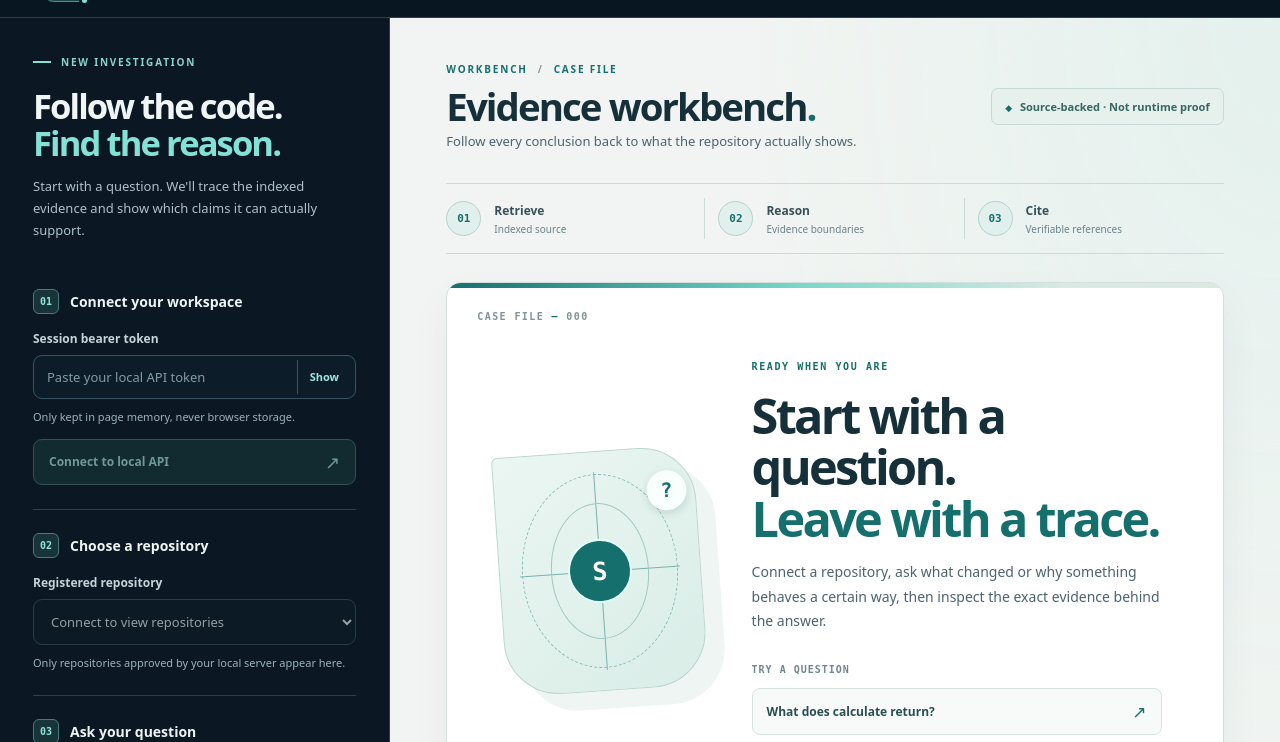
Scenario: local evidence workbench › shows hypotheses and missing observations
Type "test-local-token" into the password field labelled "Session bearer token" at (194, 377), box [33,355,356,399]
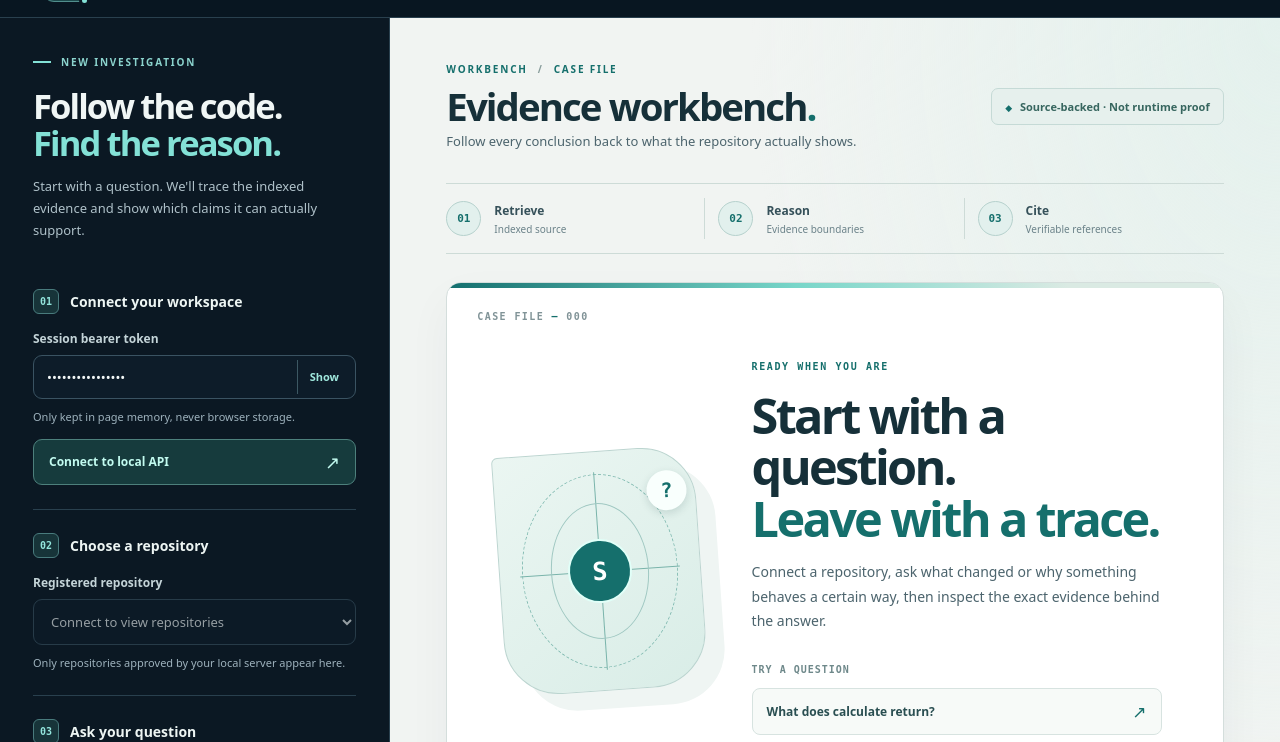
Click the button "Connect to local API" at (109, 462), box [33,439,356,485]
(page scrolled)
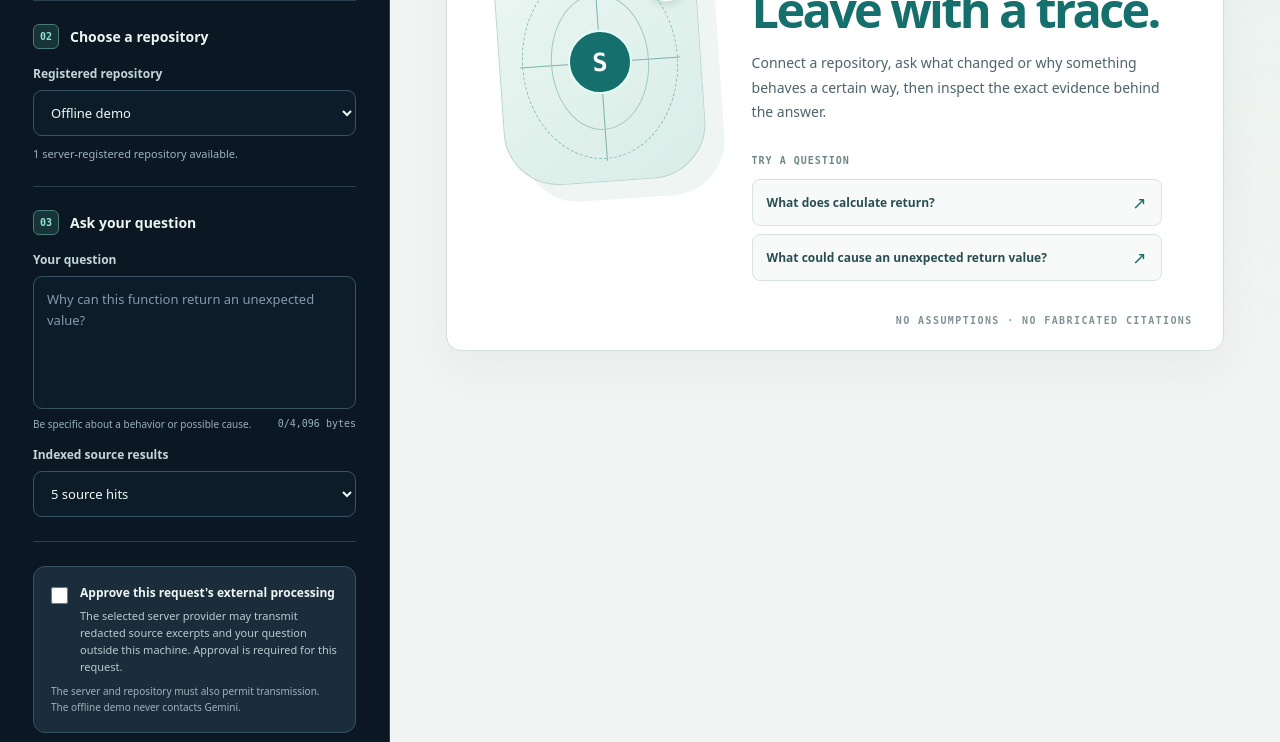
Type "What does the code return?" into the text box labelled "Your question" at (194, 343), box [33,276,356,409]
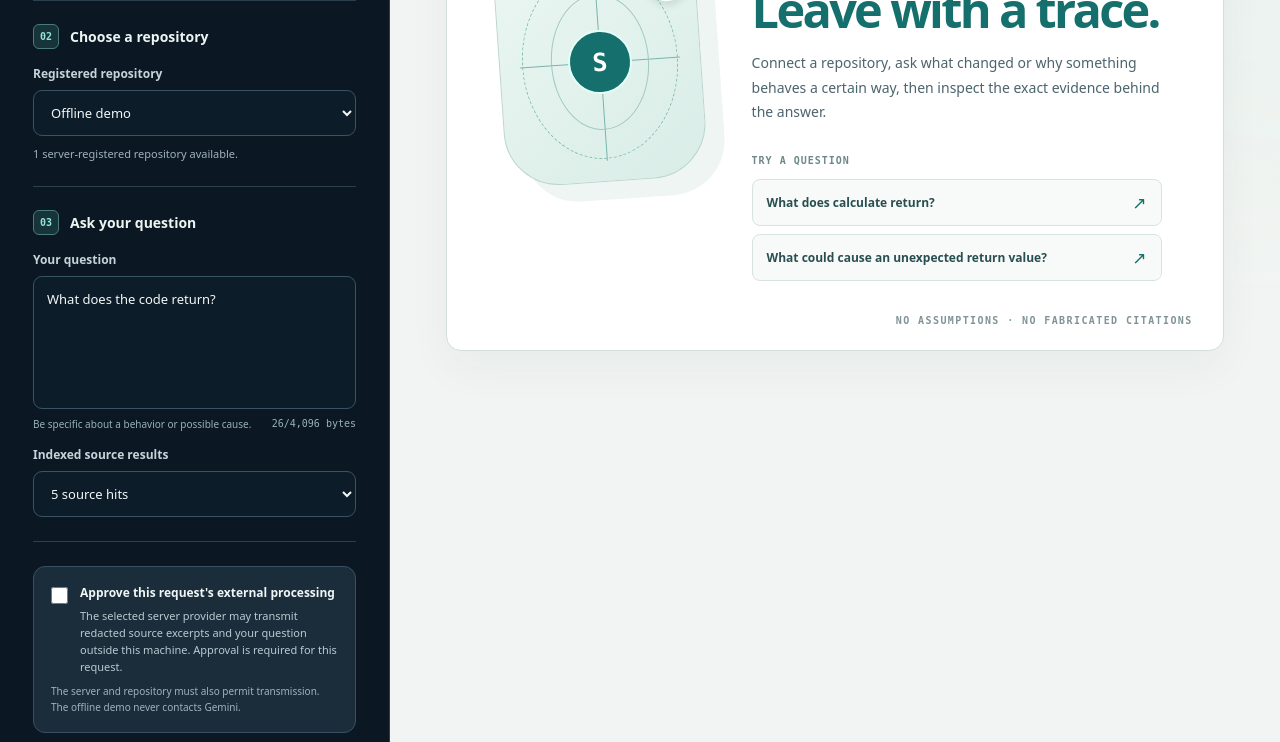
Click the checkbox named "Approve this request.s external processing" at (60, 595), box [51,587,68,604]
(page scrolled)
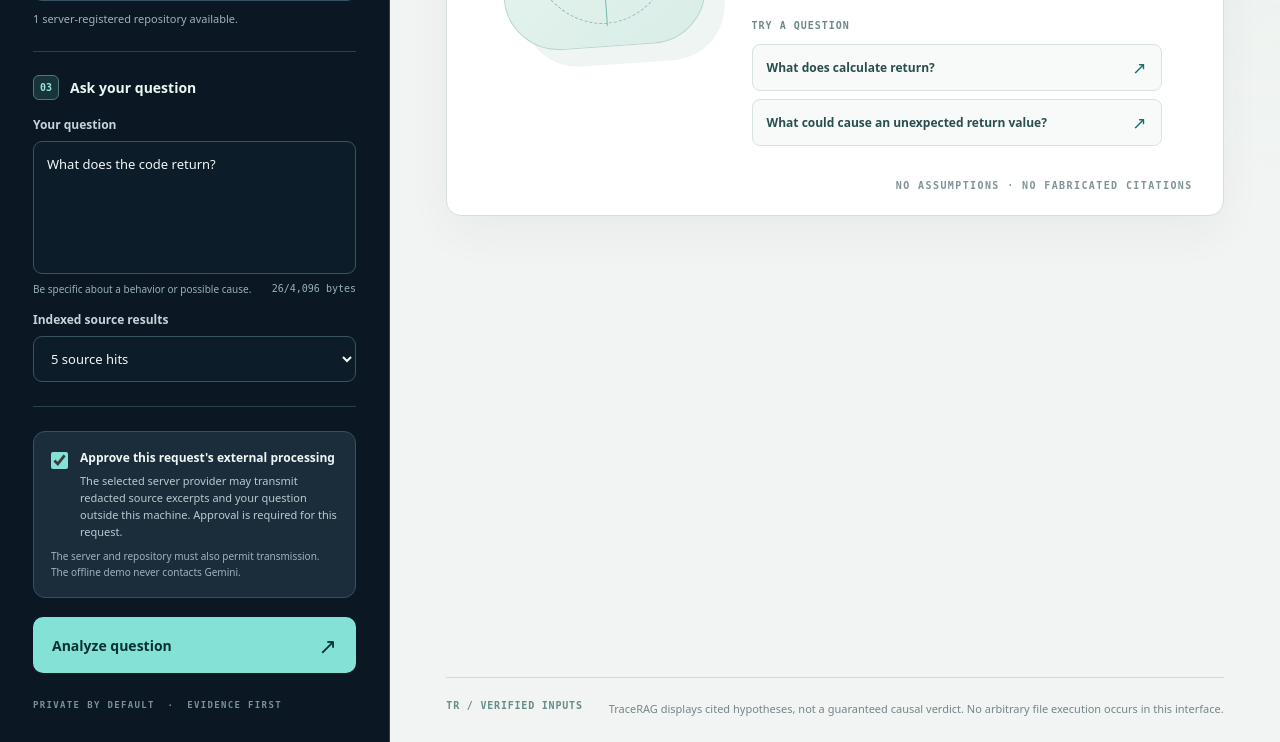
Click the button "Analyze question ↗" at (112, 645), box [33,617,356,673]
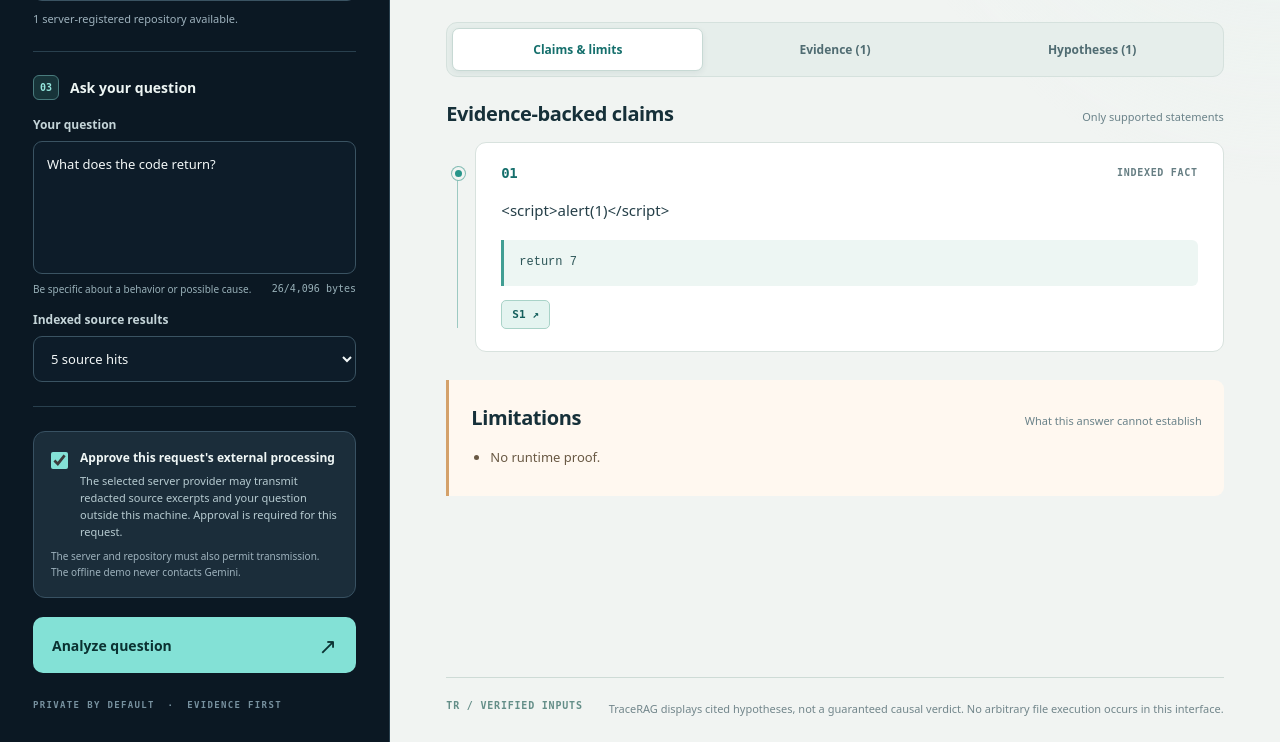
Check: the tab "Claims & limits" is shown, box [452,28,703,71]
Click the tab "Hypotheses (1)" at (1092, 49), box [967,28,1218,71]
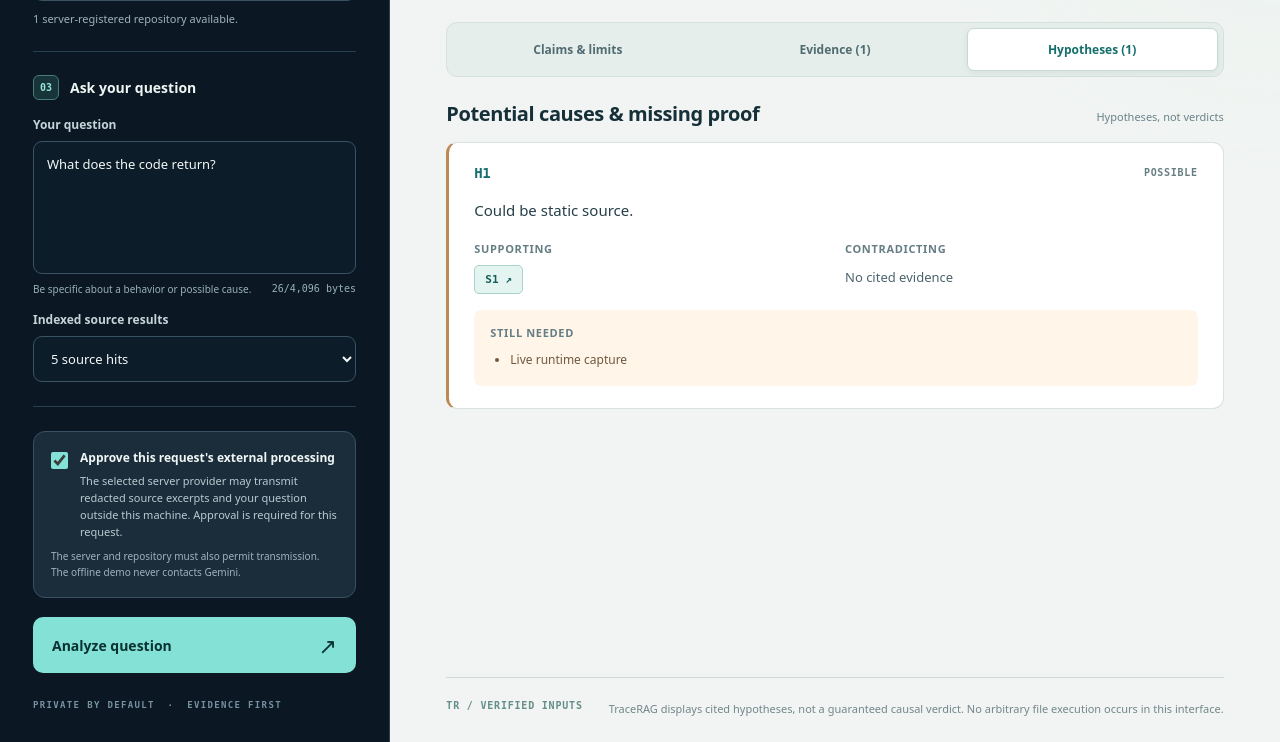
Check: the text "Could be static source." is shown, box [474,200,633,220]
Check: the list item "Live runtime capture" is shown, box [510,351,627,368]
